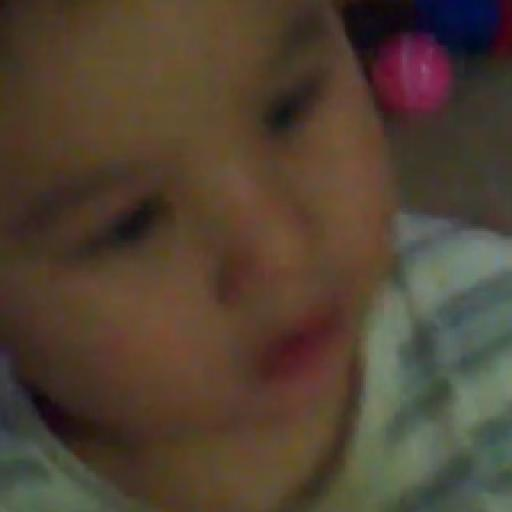Autism: (0, 0, 420, 491)
